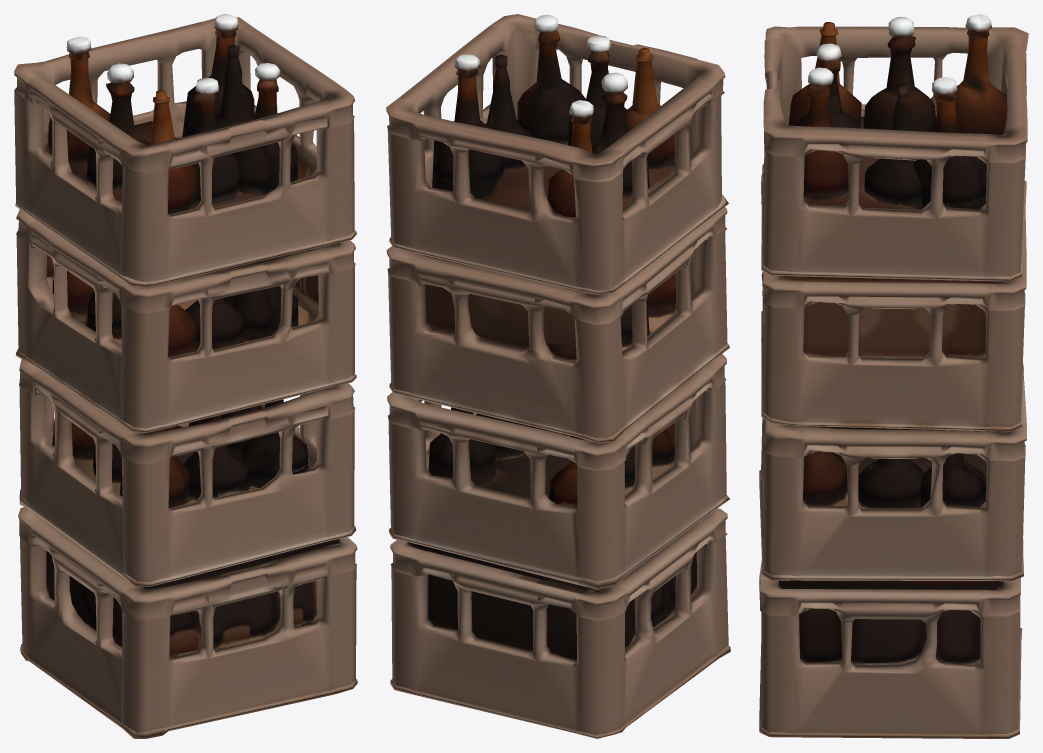
File: gajbe.glb
3 views of the same model, side by side, from view 1: azimuth 30°, elevation 25°; view 2: azimuth 150°, elevation 25°; view 3: azimuth 270°, elevation 25° (orthographic). The views are drawn at different scales.
Parts seen in each view (by area): view 1: tripo_node_ae736612-0e50-4741-bd00-5acd5ab7b820; view 2: tripo_node_ae736612-0e50-4741-bd00-5acd5ab7b820; view 3: tripo_node_ae736612-0e50-4741-bd00-5acd5ab7b820.
Boxes of the visible parts, x1=… form: tripo_node_ae736612-0e50-4741-bd00-5acd5ab7b820: x1=14, y1=14, x2=357, y2=738; tripo_node_ae736612-0e50-4741-bd00-5acd5ab7b820: x1=386, y1=14, x2=730, y2=738; tripo_node_ae736612-0e50-4741-bd00-5acd5ab7b820: x1=759, y1=14, x2=1028, y2=738.
Bounding box in the file's own units: 0.3838 × 0.9995 × 0.3843.
Materials: 1 (1 with a texture image).
